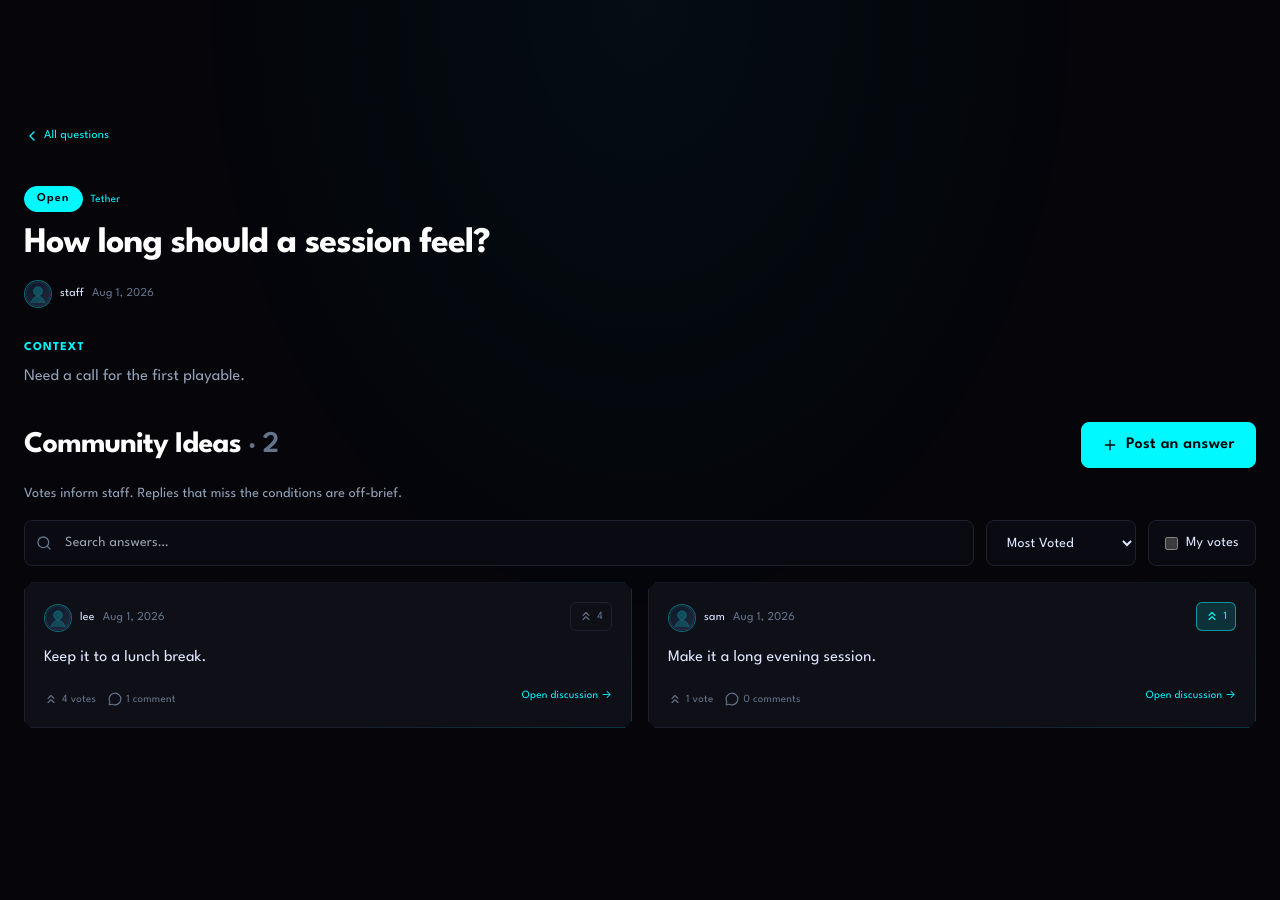
Scenario: Open Questions pages › shows the full question and sortable answers on the detail page
The width and height of the screenshot is (1280, 900).
Expected: the heading "How long should a session feel?" is shown, [24, 227, 490, 260]
Expected: the text "Need a call for the first playable." is shown, [24, 369, 246, 384]
Click the button "Post an answer": point(1169, 445) [1081, 422, 1256, 468]
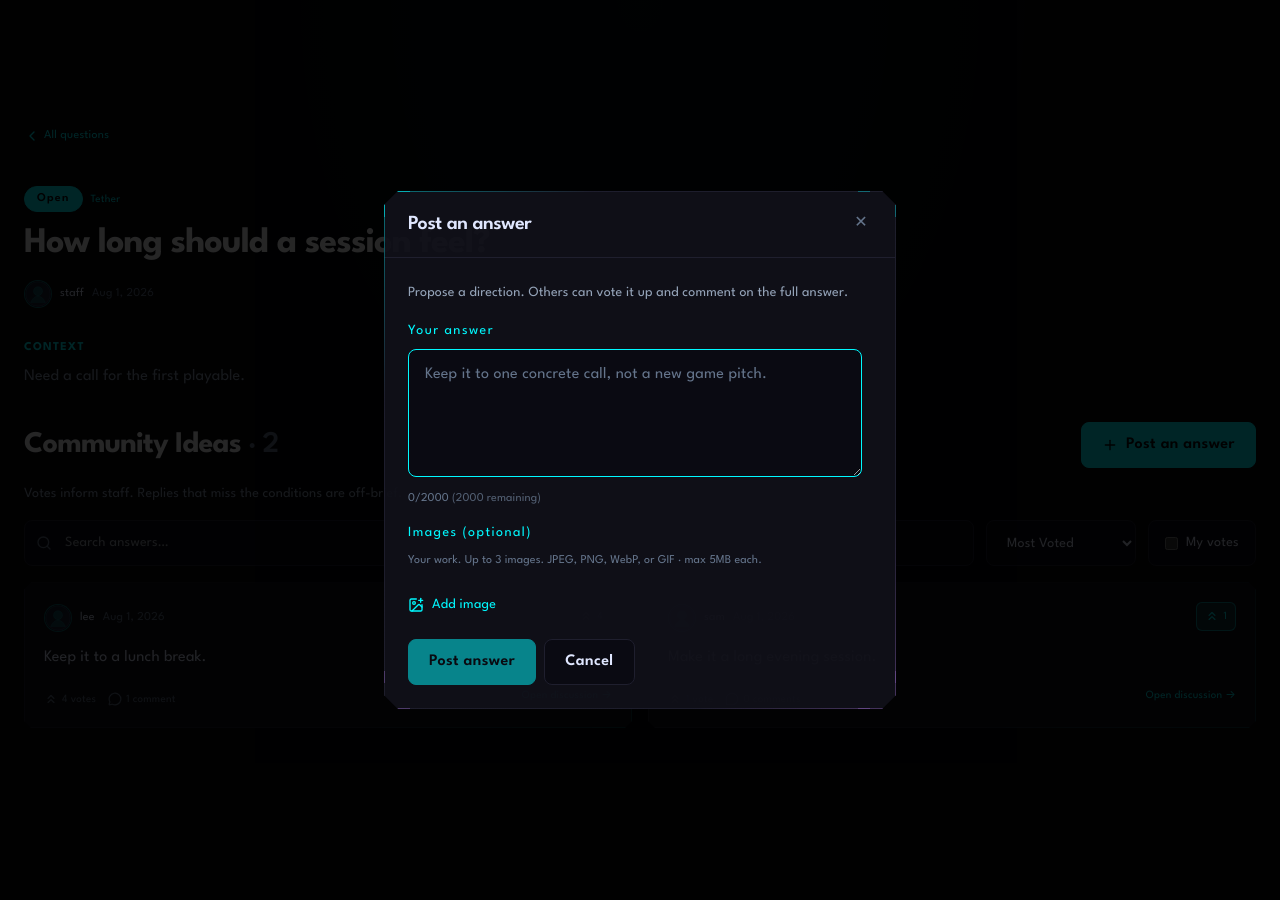
Expected: the text box labelled "Your answer" is shown, [408, 349, 862, 477]
